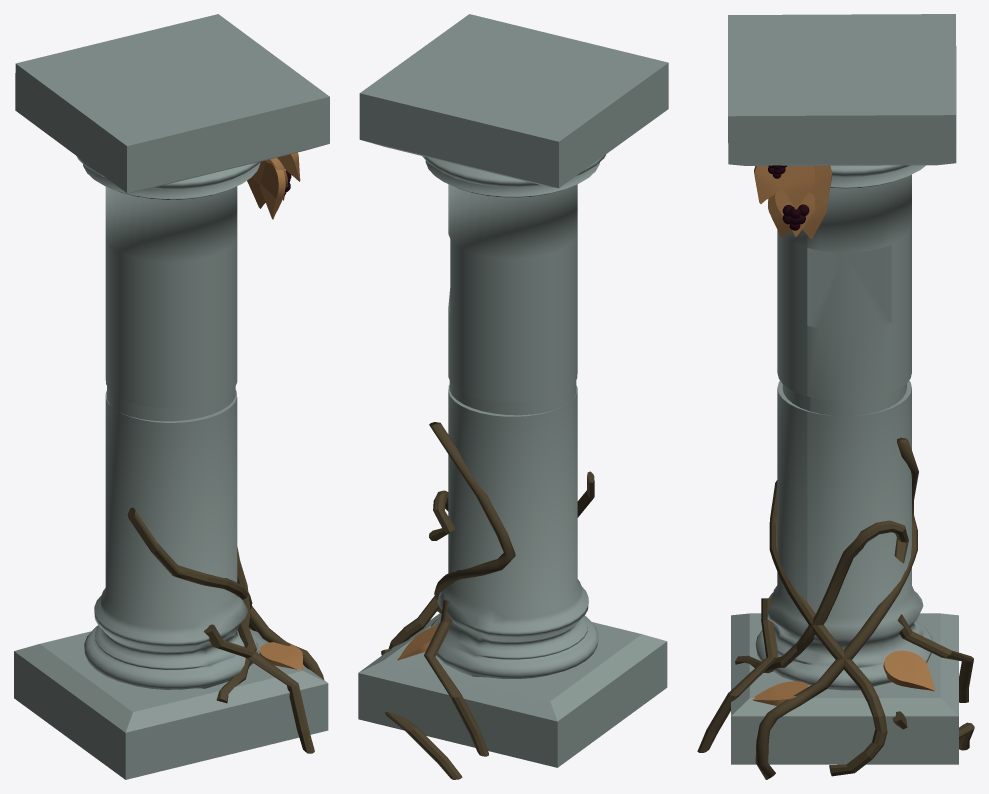
File: AUTUMN(Pillar).fbx
The picture shows the model from 3 angles, left to right: view 1: azimuth 30°, elevation 25°; view 2: azimuth 150°, elevation 25°; view 3: azimuth 270°, elevation 25°; orthographic projection. The views are drawn at different scales.
Visible parts, largest first — view 1: Cylinder, Cube.001, Cube, Cylinder.007, Cylinder.002, Cylinder.003, Cylinder.013, Cylinder.014, Cylinder.004; view 2: Cylinder, Cube.001, Cube, Cylinder.004, Cylinder.005, Cylinder.002, Cylinder.006, Cylinder.003, Cylinder.015; view 3: Cylinder, Cube.001, Cube, Cylinder.004, Cylinder.002, Cylinder.003, Cylinder.007, Cylinder.015, Cylinder.005, Cylinder.008, Cylinder.014, Cylinder.010 (+4 smaller).
Boxes of the visible parts, x1,y1,x2,y2 form: Cylinder: [76, 156, 260, 689]; Cube.001: [15, 14, 329, 193]; Cube: [14, 629, 328, 779]; Cylinder.007: [204, 624, 314, 753]; Cylinder.002: [127, 507, 257, 631]; Cylinder.003: [216, 547, 256, 703]; Cylinder.013: [260, 163, 285, 219]; Cylinder.014: [259, 642, 303, 669]; Cylinder.004: [249, 606, 324, 679]; Cylinder: [422, 154, 605, 678]; Cube.001: [359, 14, 668, 188]; Cube: [358, 613, 667, 767]; Cylinder.004: [429, 422, 515, 613]; Cylinder.005: [424, 600, 488, 756]; Cylinder.002: [388, 471, 594, 649]; Cylinder.006: [381, 649, 462, 779]; Cylinder.003: [429, 490, 454, 540]; Cylinder.015: [397, 625, 438, 660]; Cylinder: [755, 165, 932, 690]; Cube.001: [728, 14, 956, 165]; Cube: [731, 613, 958, 764]; Cylinder.004: [755, 437, 918, 779]; Cylinder.002: [769, 480, 887, 776]; Cylinder.003: [735, 520, 908, 673]; Cylinder.007: [697, 598, 778, 752]; Cylinder.015: [883, 650, 935, 691]; Cylinder.005: [897, 614, 973, 702]; Cylinder.008: [777, 165, 815, 209]; Cylinder.014: [752, 681, 808, 705]; Cylinder.010: [754, 166, 782, 203].
Size of the model in its own units: 253 by 750 by 275.
